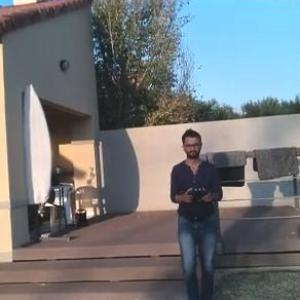follow: (163, 122, 226, 299)
